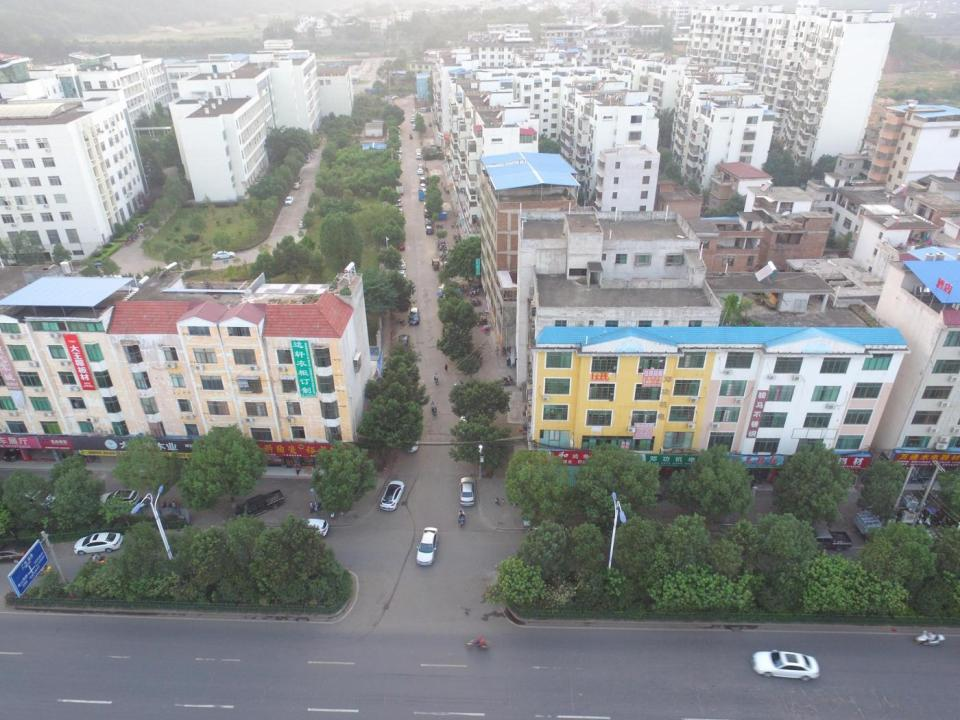car: (749, 649, 821, 681), (73, 532, 124, 556), (416, 526, 440, 566), (100, 489, 142, 510), (0, 540, 34, 565), (379, 479, 405, 511), (294, 518, 329, 539), (24, 490, 58, 510), (2, 436, 25, 462), (400, 426, 420, 453), (459, 476, 476, 507), (211, 250, 236, 260), (408, 307, 420, 326), (398, 333, 410, 351), (396, 237, 405, 251), (396, 259, 406, 270), (422, 206, 433, 216), (283, 196, 294, 206), (396, 270, 406, 280), (418, 182, 427, 193), (396, 207, 404, 217), (292, 182, 301, 190), (294, 176, 303, 184), (303, 156, 313, 163), (424, 218, 432, 226), (394, 198, 402, 206), (418, 176, 426, 184), (299, 220, 306, 228), (415, 152, 422, 159), (417, 166, 423, 174), (428, 140, 436, 146), (415, 148, 422, 154), (391, 95, 399, 100), (417, 164, 424, 169)
truck: (232, 488, 286, 521), (806, 527, 854, 551), (394, 180, 404, 196), (432, 256, 440, 271), (417, 189, 424, 202), (426, 224, 434, 234)
van: (418, 107, 427, 112)
